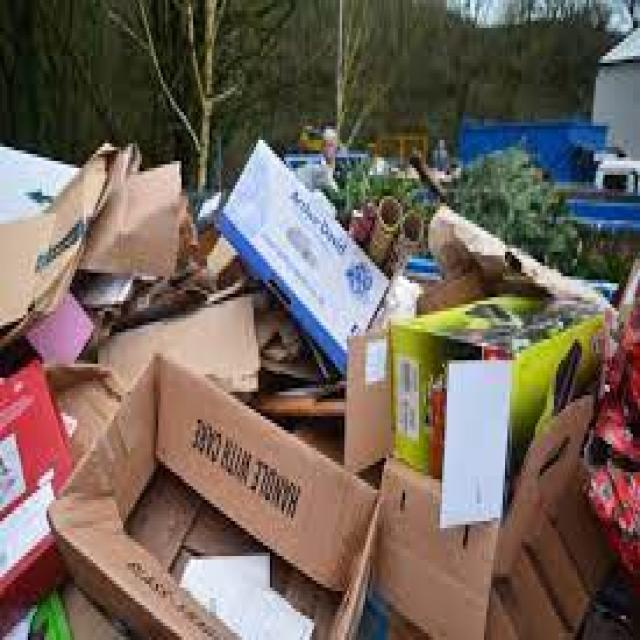Papel: (45, 355, 379, 640), (220, 138, 391, 378), (1, 145, 186, 351), (374, 463, 497, 637), (491, 395, 595, 584), (0, 362, 72, 596), (97, 299, 257, 397), (387, 297, 600, 350), (446, 362, 513, 525), (346, 325, 398, 470)
